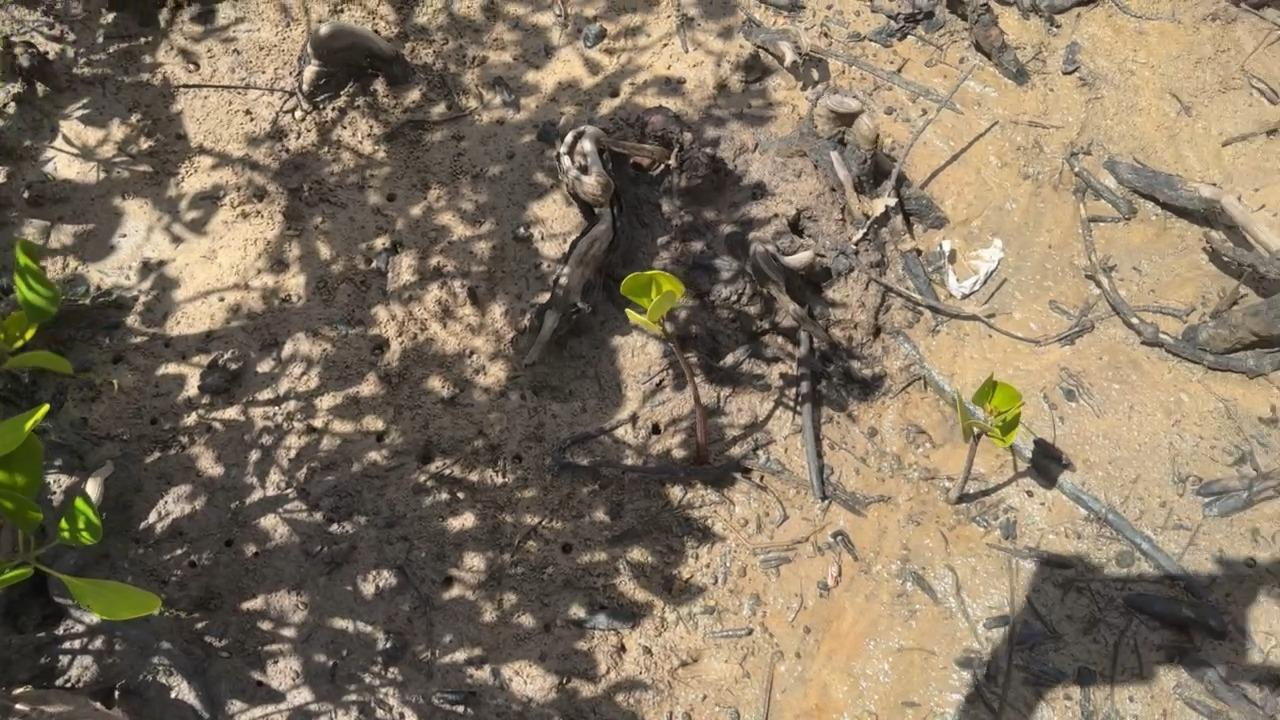Tree: (621, 270, 708, 464), (948, 372, 1023, 504)
